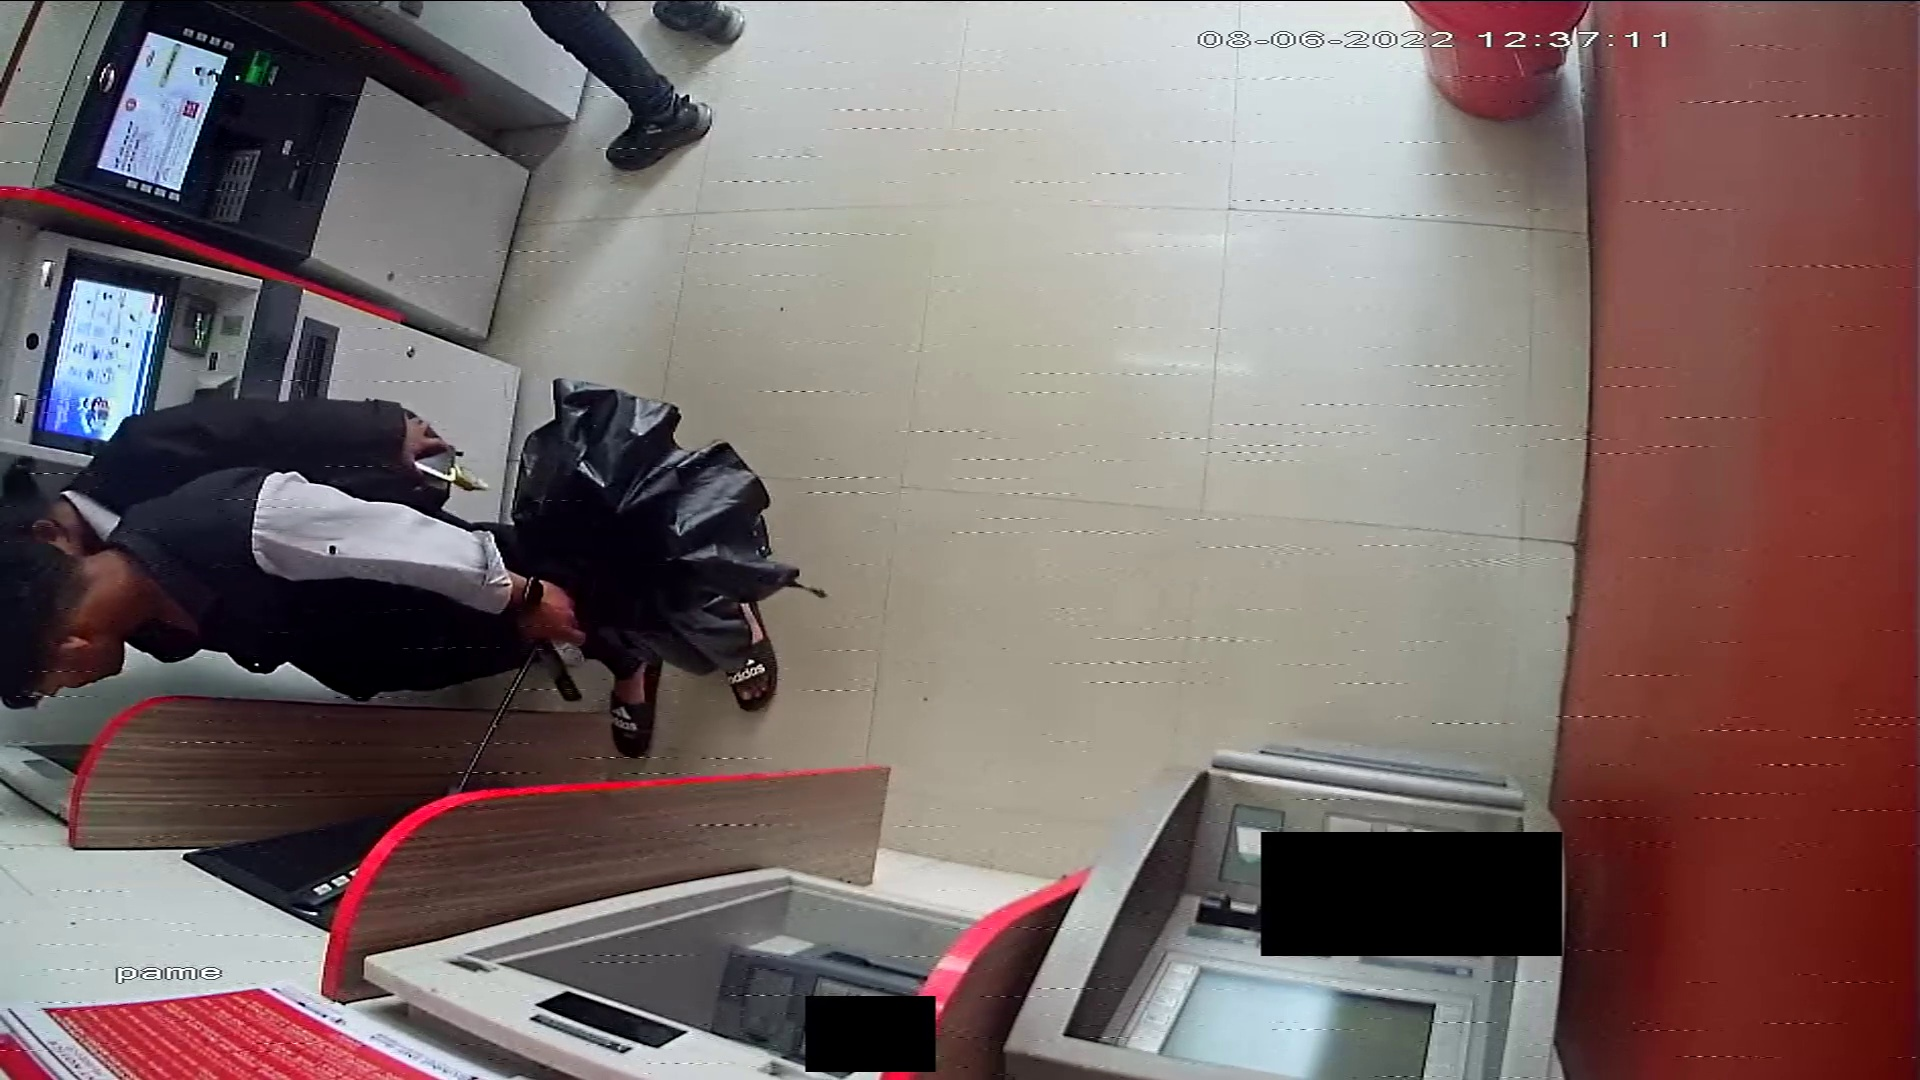person: (1, 460, 786, 764), (1, 398, 486, 559), (523, 3, 751, 171)
